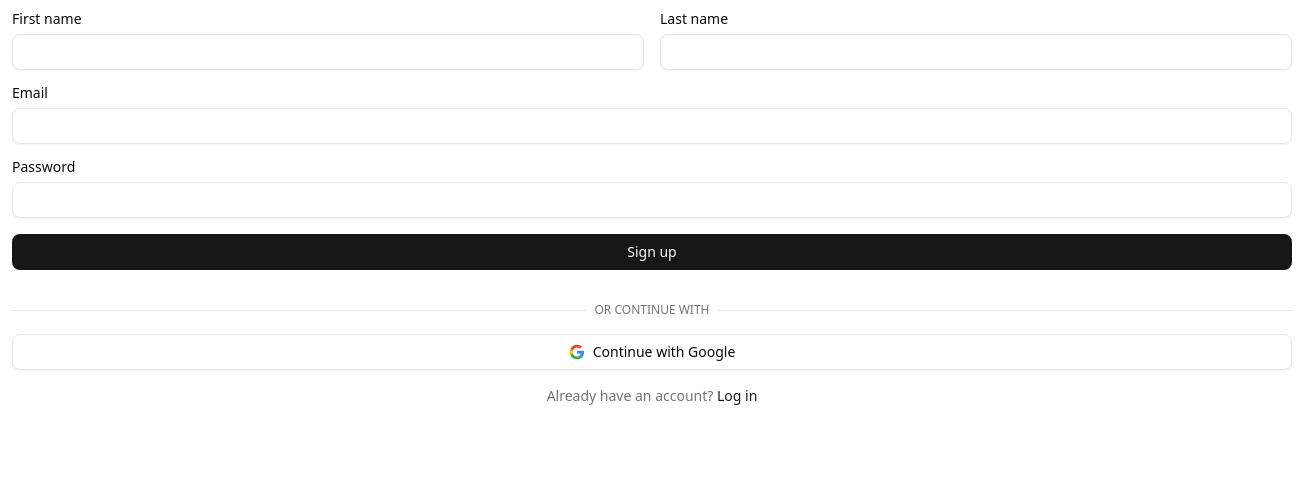
Test case: RegisterForm › displays email taken error on 409 conflict
In the field labelled "First name": (328, 52) x1=12 y1=34 x2=644 y2=70, type "New"
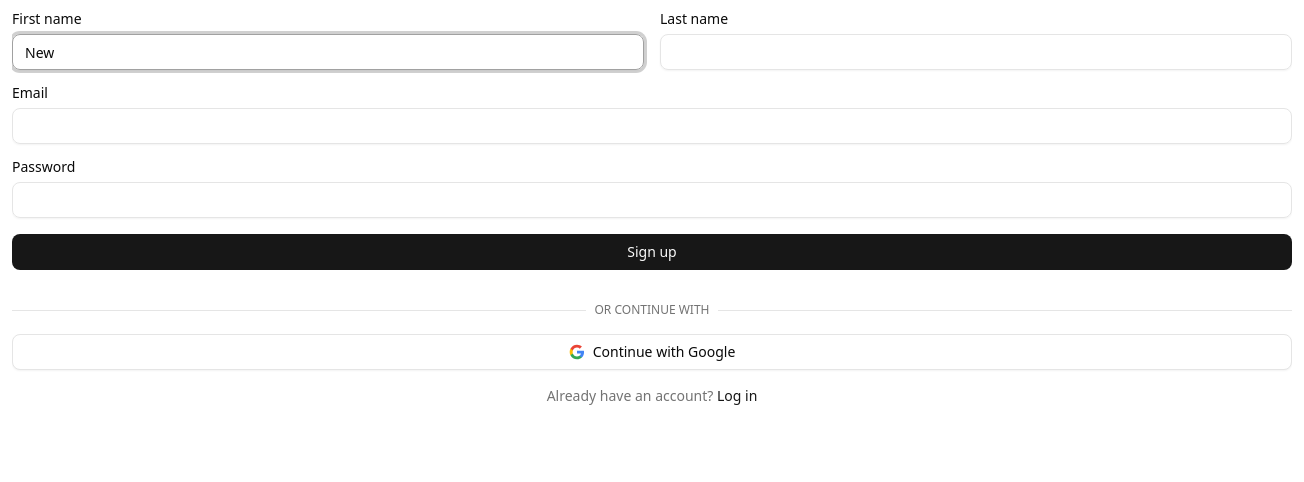
In the field labelled "Last name": (976, 52) x1=660 y1=34 x2=1292 y2=70, type "User"
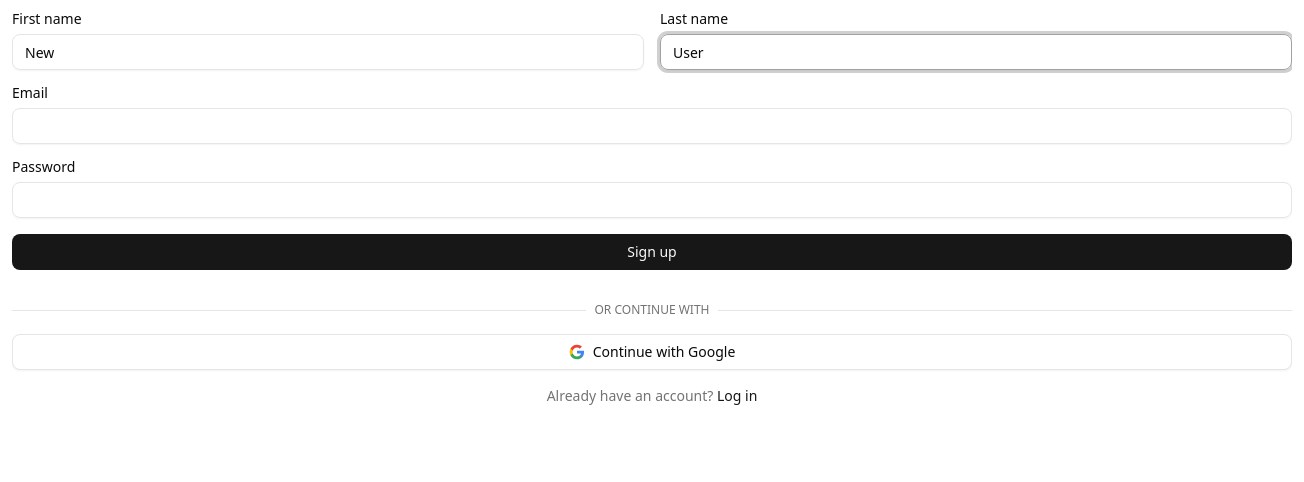
In the field labelled "Email": (652, 126) x1=12 y1=108 x2=1292 y2=144, type "existing@kpi.ua"
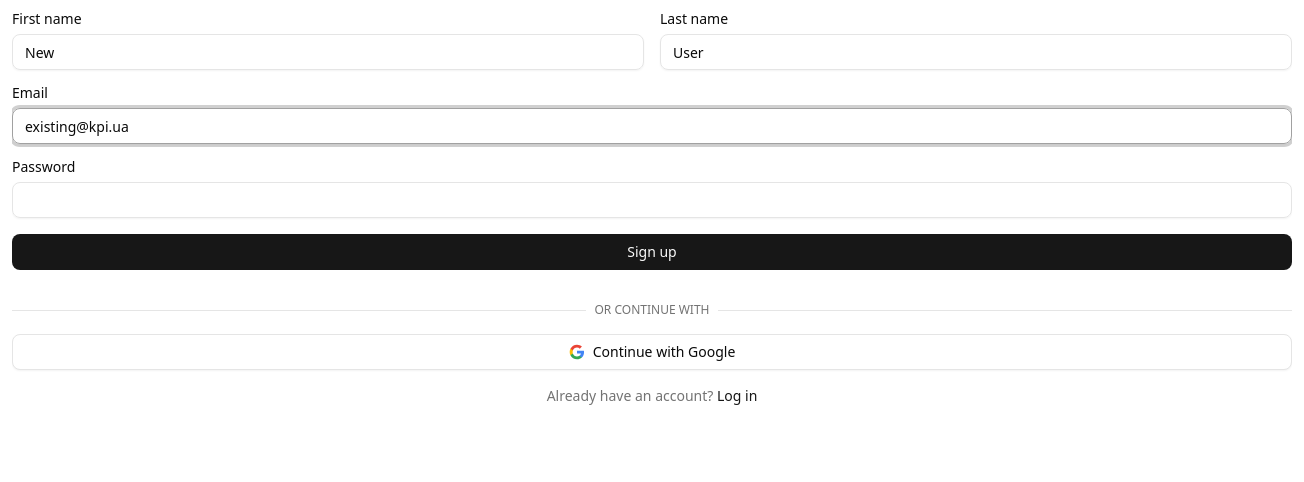
In the password field labelled "Password": (652, 200) x1=12 y1=182 x2=1292 y2=218, type "password123"
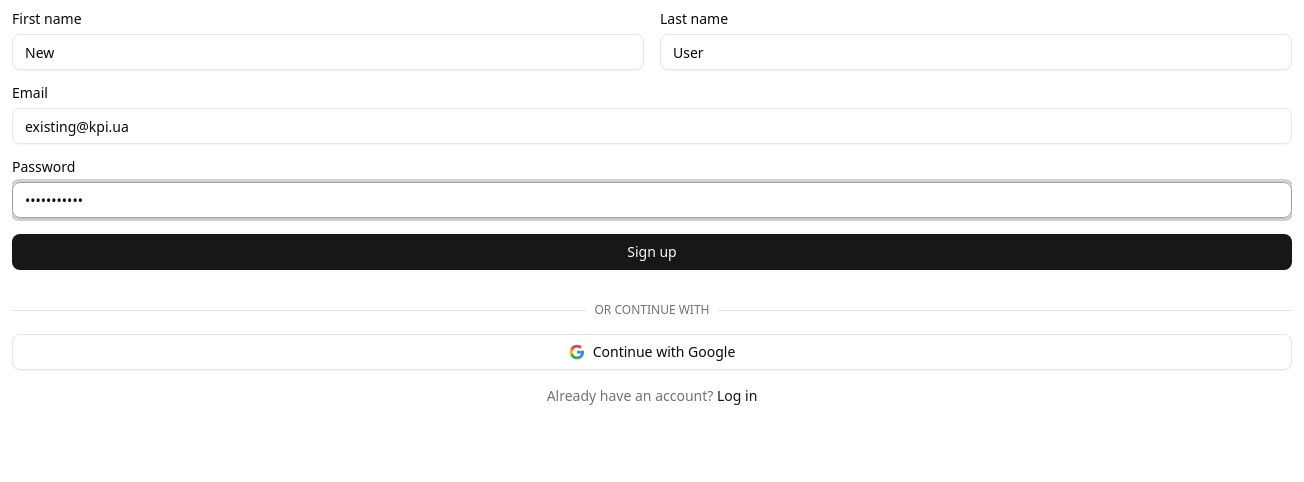
Click the button "Sign up": (652, 252) x1=12 y1=234 x2=1292 y2=270
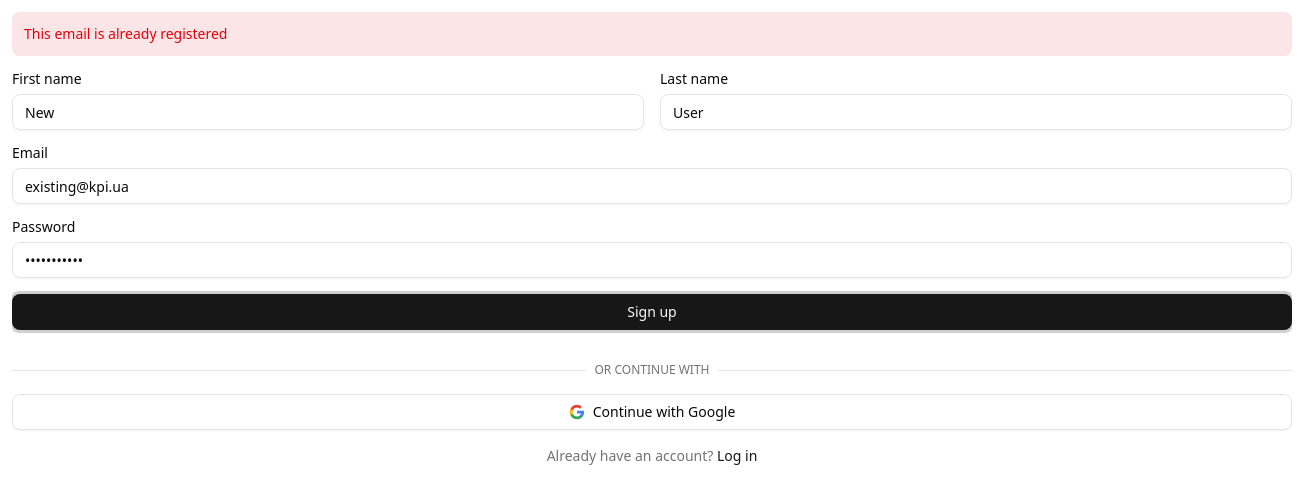
Expected: the message shows "already registered", x1=24 y1=24 x2=228 y2=43
